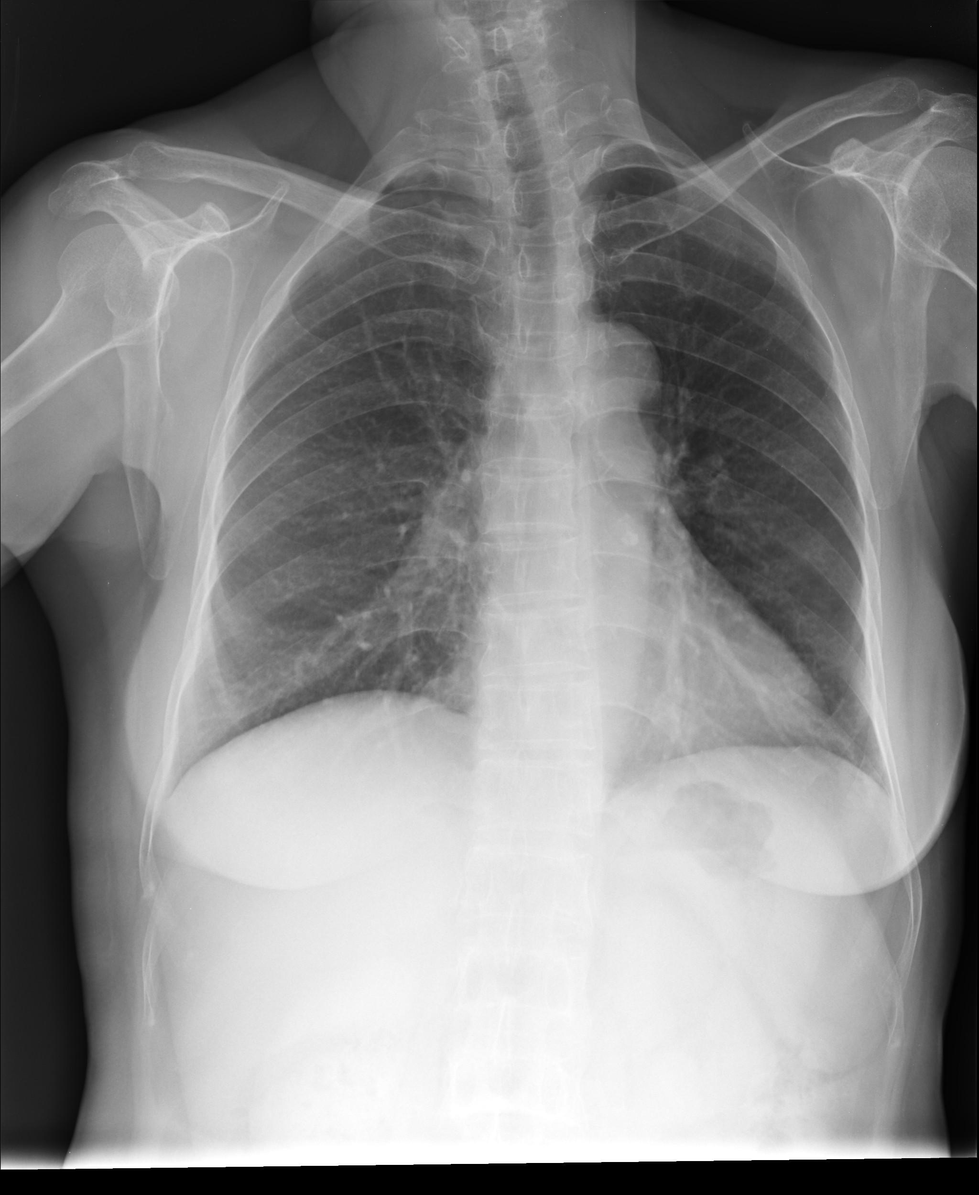Aortic enlargement: (544, 313, 665, 412)
Cardiomegaly: (426, 619, 844, 754)
